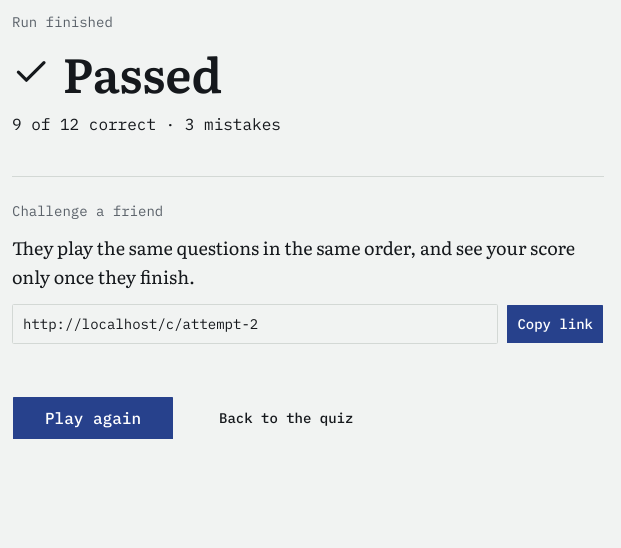
Scenario: run summary play again › shows the rateLimited message and lets the player retry
What coordinates should you click on to do the following:
click the button "Play again"
I would click on:
 (93, 418)
Its box is [12,396,174,440].
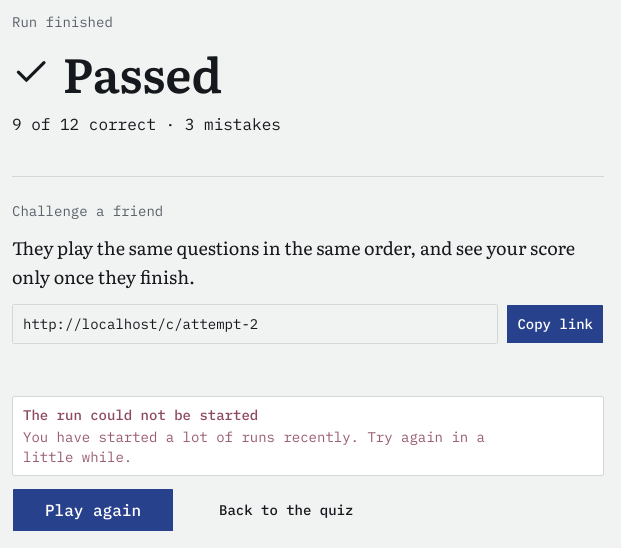
Check: the button "Play again" is enabled, box [12,488,174,532]
Check: the message shows "You have started a lot of runs recently. Try again in a little while.", box [23,428,485,466]
